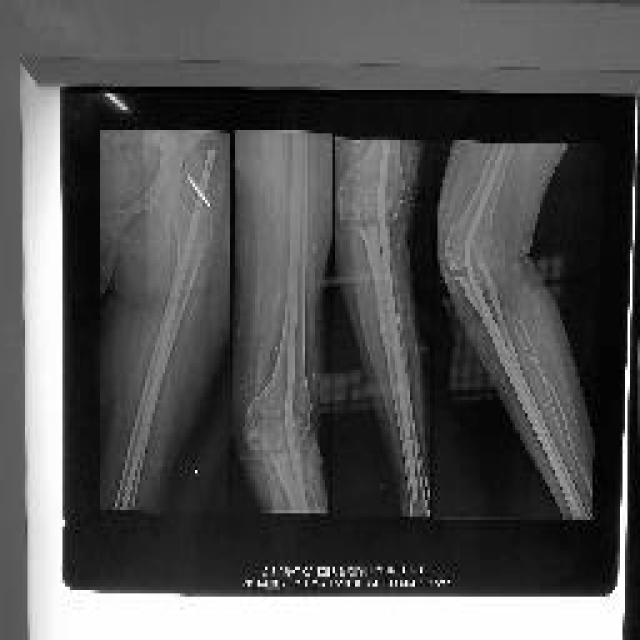bone-cancer: (246, 366, 314, 449), (339, 155, 402, 223)
